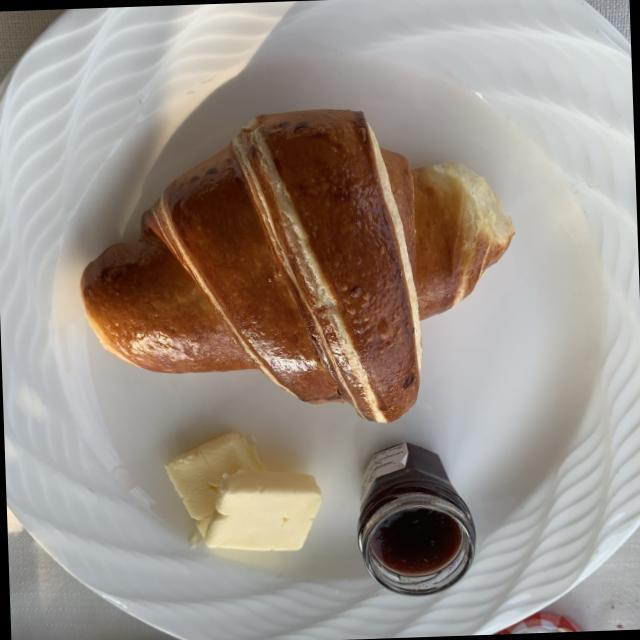Croissant: (58, 97, 526, 441)
